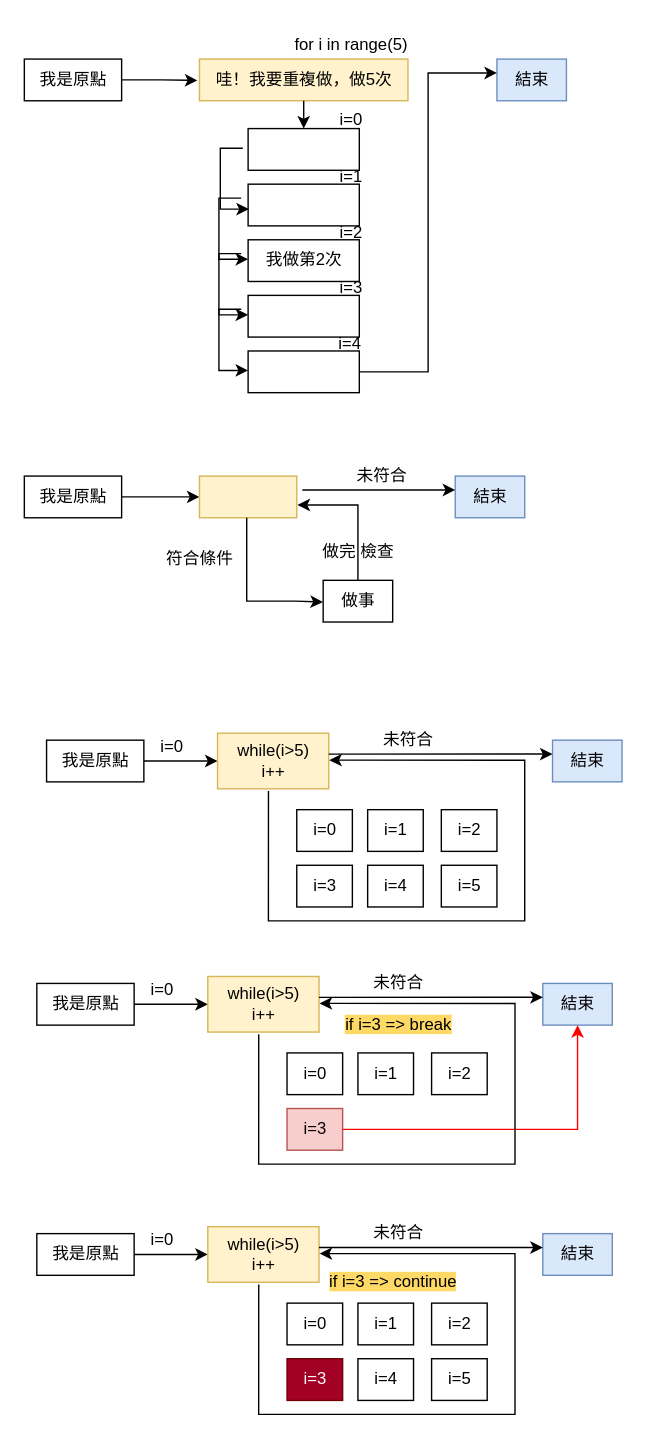
This 646x1450 diagram has some shape labels left out. Here are the shapes that lost their labels. From the top down, the centre of each, then its label:
At point 303,148: "我做第0次".
At point 303,204: "我做第1次".
At point 303,315: "我做第3次".
At point 303,371: "我做第4次".
At point 247,496: "一個條件".
